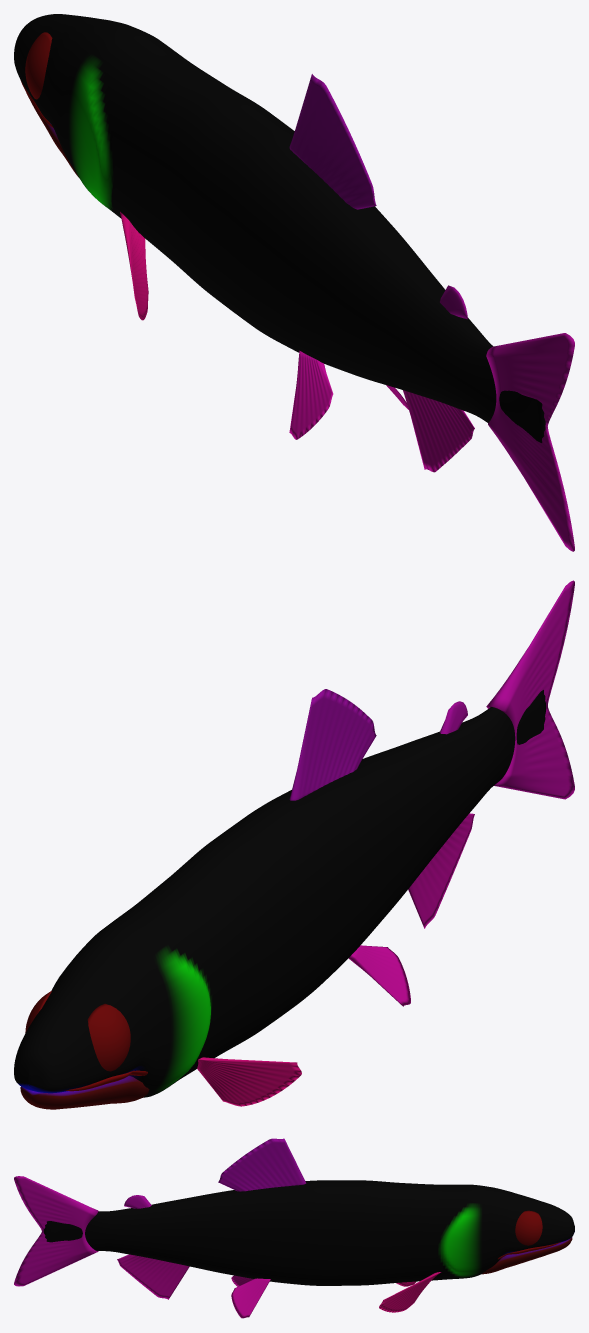
The model's file is sockeye_parr.glb.
3 renders of one model, top to bottom at view 1: azimuth 30°, elevation 25°; view 2: azimuth 150°, elevation 25°; view 3: azimuth 270°, elevation 25°, orthographic. The views are drawn at different scales.
Visible parts, largest first — view 1: sockeye_parr; view 2: sockeye_parr; view 3: sockeye_parr.
Part boxes in pixels (x1,y1,x2,y2): sockeye_parr: (14, 14, 574, 551); sockeye_parr: (14, 580, 574, 1109); sockeye_parr: (14, 1138, 574, 1318).
Size of the model in its own units: 0.1029 by 0.1933 by 0.5936.
